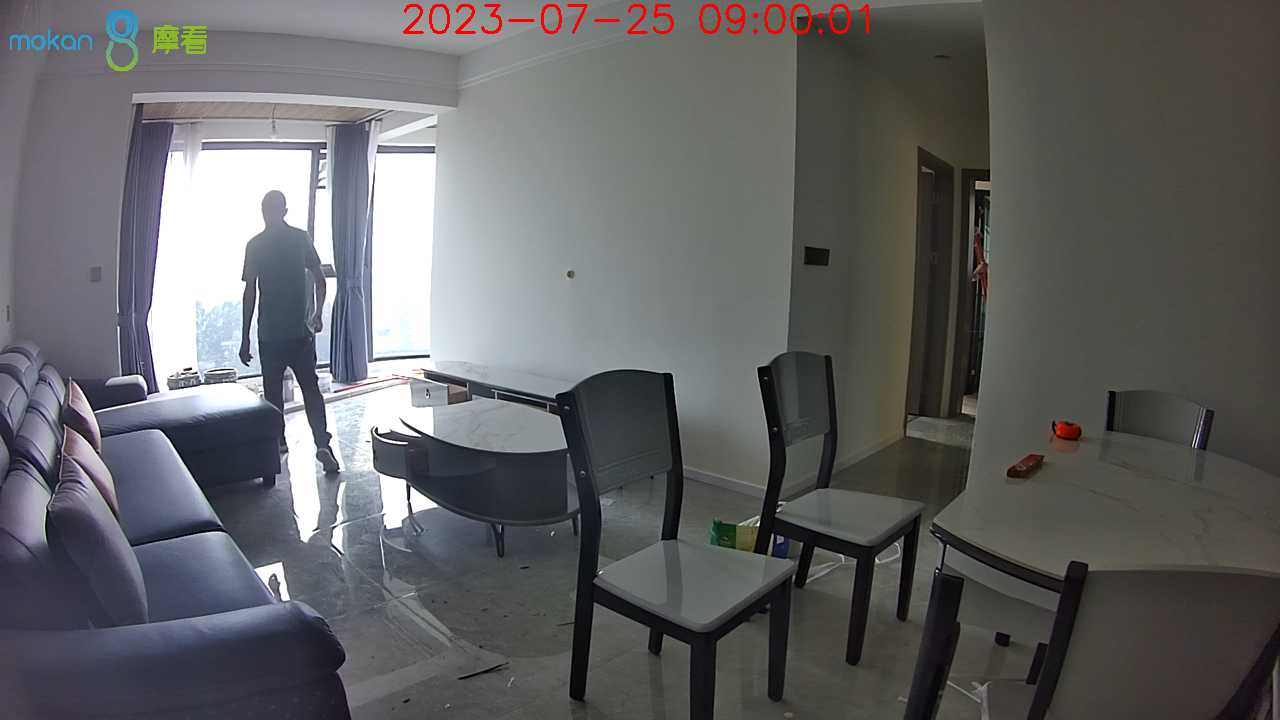people: (238, 190, 342, 477)
window: (139, 122, 435, 366)
